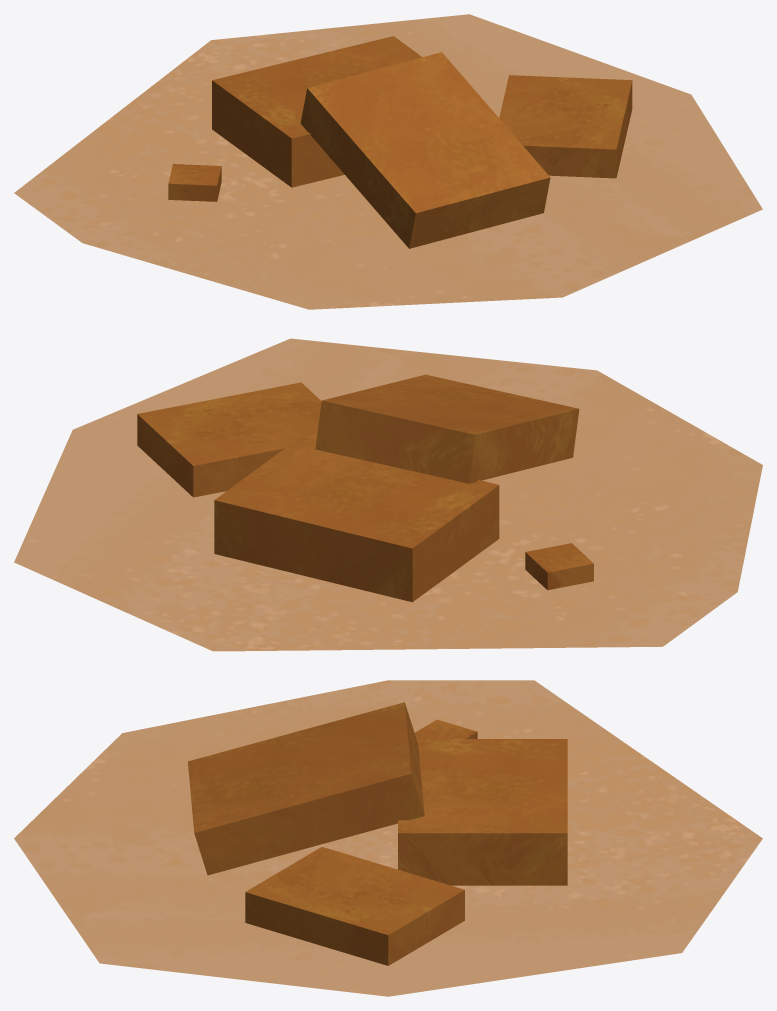
The model's file is SM_rubble2.fbx.
3 renders of one model, top to bottom at view 1: azimuth 30°, elevation 25°; view 2: azimuth 150°, elevation 25°; view 3: azimuth 270°, elevation 25°, orthographic. The views are drawn at different scales.
Parts seen in each view (by area): view 1: rubble2; view 2: rubble2; view 3: rubble2.
Boxes of the visible parts, x1=… form: rubble2: x1=14, y1=14, x2=762, y2=309; rubble2: x1=14, y1=338, x2=762, y2=651; rubble2: x1=14, y1=680, x2=762, y2=996.
Size of the model in its own units: 12.57 by 1.9 by 12.57.
